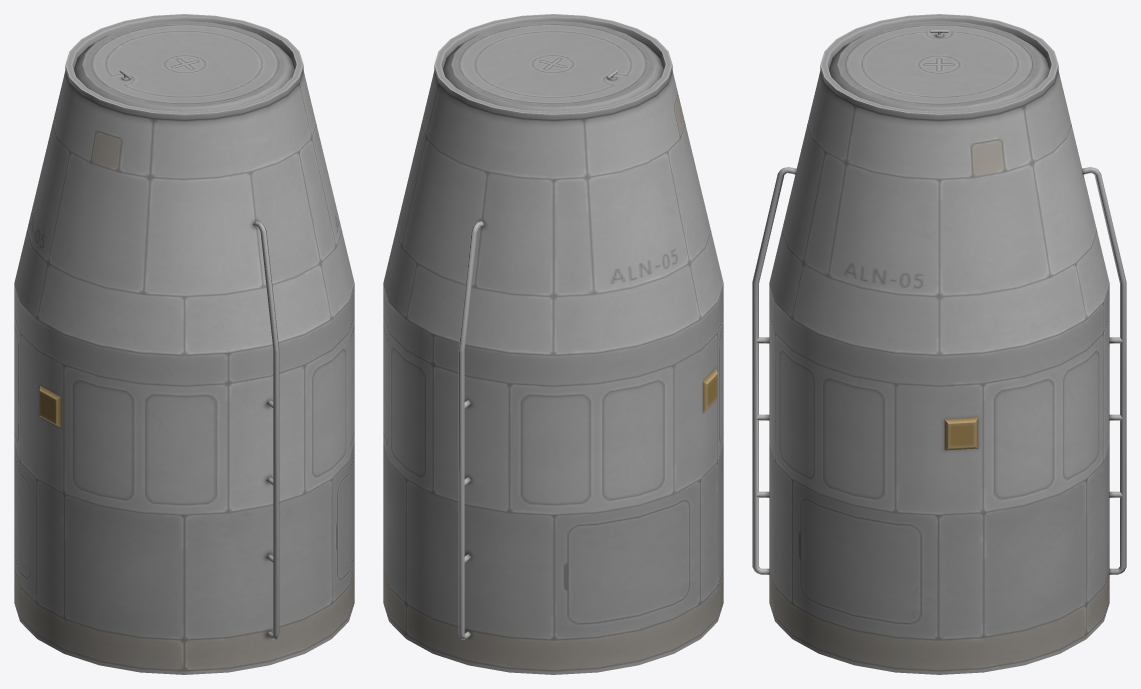
Rendered from Alniyat_Habitation_1.obj.
3 views of the same model, side by side, from view 1: azimuth 30°, elevation 25°; view 2: azimuth 150°, elevation 25°; view 3: azimuth 270°, elevation 25° (orthographic).
Visible parts, largest first — view 1: Alniyat_Habitation_1; view 2: Alniyat_Habitation_1; view 3: Alniyat_Habitation_1.
Boxes of the visible parts, <box> form: Alniyat_Habitation_1: <box>14,14,354,674</box>; Alniyat_Habitation_1: <box>383,14,723,674</box>; Alniyat_Habitation_1: <box>752,14,1126,674</box>.
Bounding box in the file's own units: 1.27 × 2.21 × 1.38.
